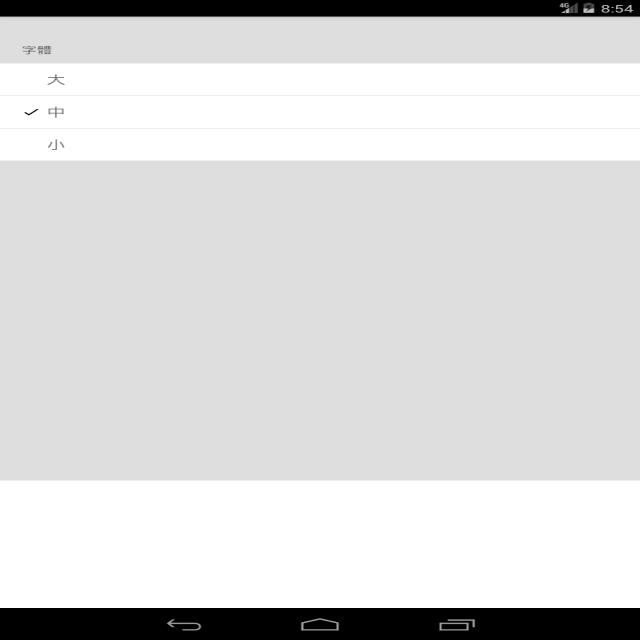TextView: (38, 69, 74, 89), (14, 41, 65, 55), (39, 136, 72, 154)
